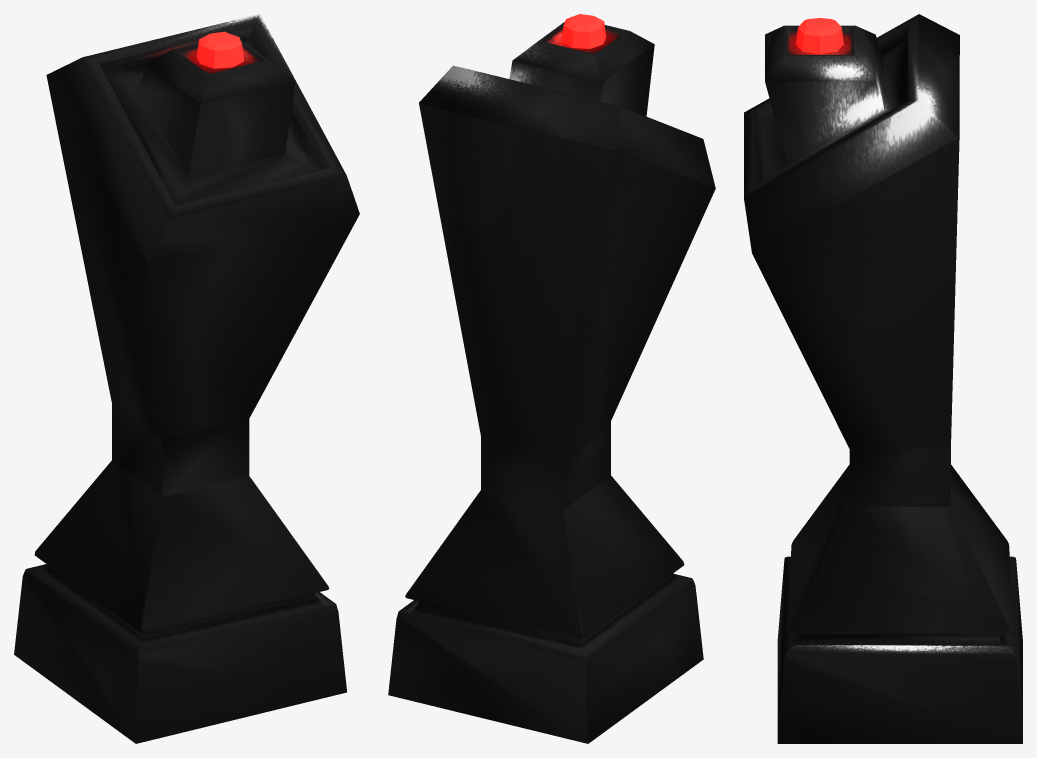
The model's file is button001.fbx.
3 views of the same model, side by side, from view 1: azimuth 30°, elevation 25°; view 2: azimuth 150°, elevation 25°; view 3: azimuth 270°, elevation 25° (orthographic). The views are drawn at different scales.
Visible parts, largest first — view 1: Cube, Cube.001; view 2: Cube, Cube.001; view 3: Cube, Cube.001.
Boxes of the visible parts, x1,y1,x2,y2 form: Cube: (14, 14, 359, 743); Cube.001: (197, 31, 243, 68); Cube: (388, 16, 715, 743); Cube.001: (561, 14, 605, 48); Cube: (744, 14, 1022, 743); Cube.001: (796, 18, 843, 54).
Bounding box in the file's own units: 200 × 601 × 227.
2 materials, 1 textured.
